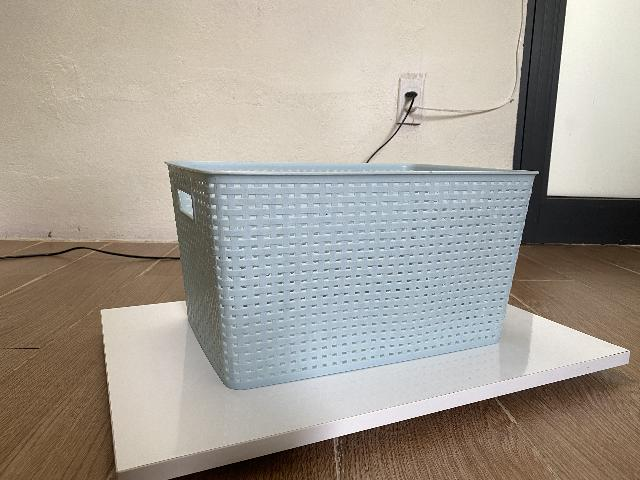cart: (165, 162, 541, 393)
